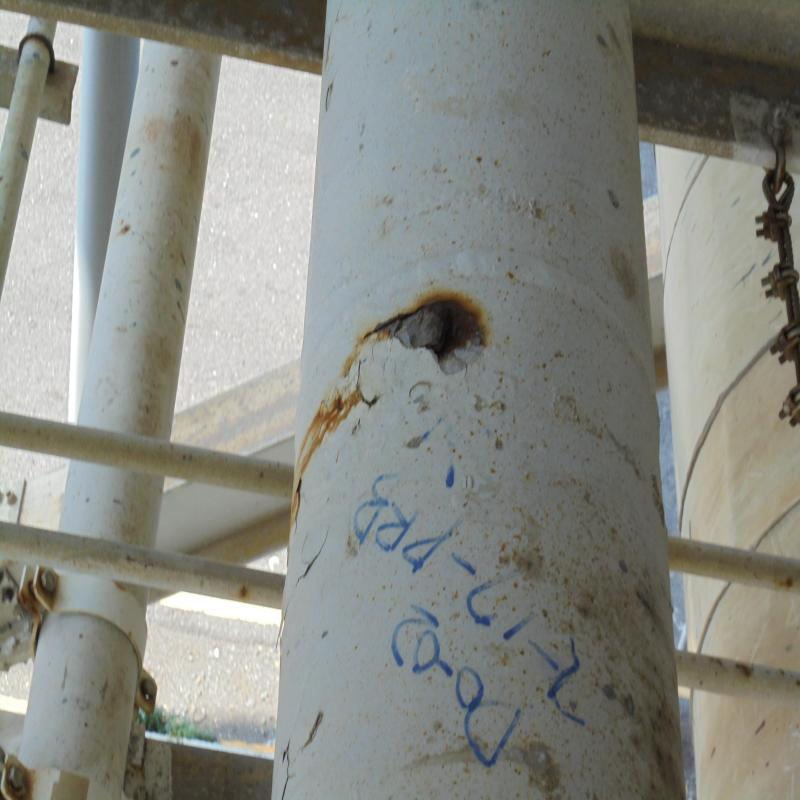corrosion: (384, 288, 489, 356)
